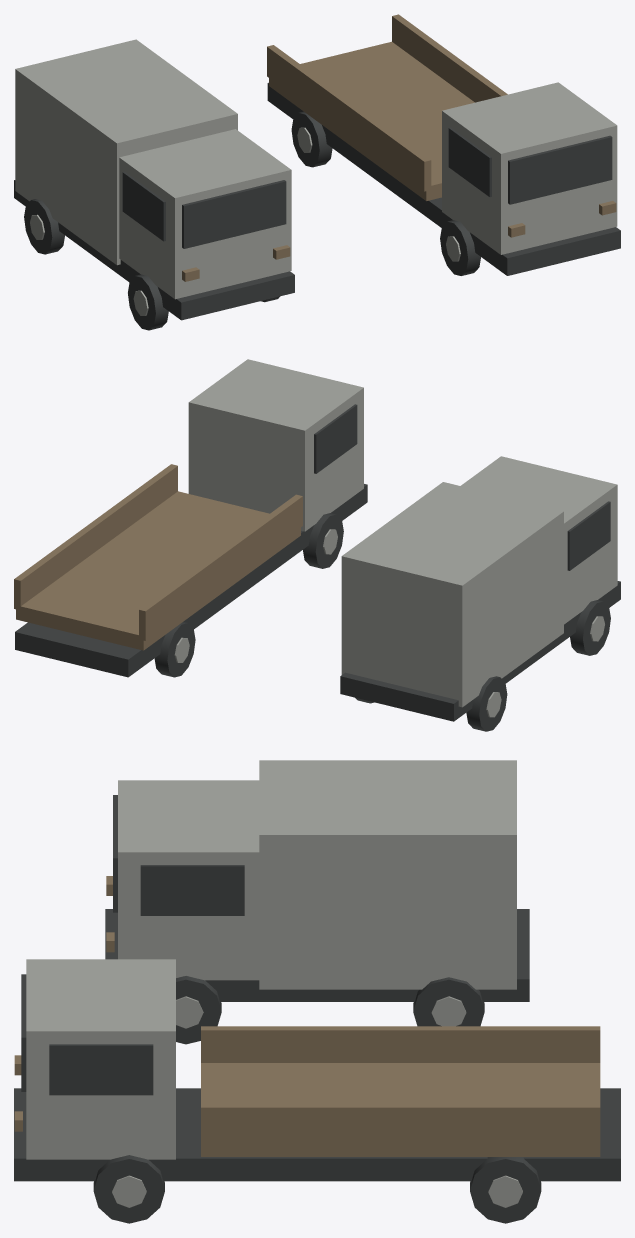
The model's file is Scenery_UtilityVehicles.fbx.
3 views of the same model, one above another, from view 1: azimuth 30°, elevation 25°; view 2: azimuth 150°, elevation 25°; view 3: azimuth 270°, elevation 25° (orthographic). The views are drawn at different scales.
Visible parts, largest first — view 1: Scenery_UtilityVehicles_LOD0; view 2: Scenery_UtilityVehicles_LOD0; view 3: Scenery_UtilityVehicles_LOD0.
Part boxes in pixels (x1,y1,x2,y2): Scenery_UtilityVehicles_LOD0: (14, 14, 620, 330); Scenery_UtilityVehicles_LOD0: (14, 359, 620, 731); Scenery_UtilityVehicles_LOD0: (14, 760, 620, 1223).
Size of what is drawn, in the model's own units: 7.42 by 2.74 by 7.3.
